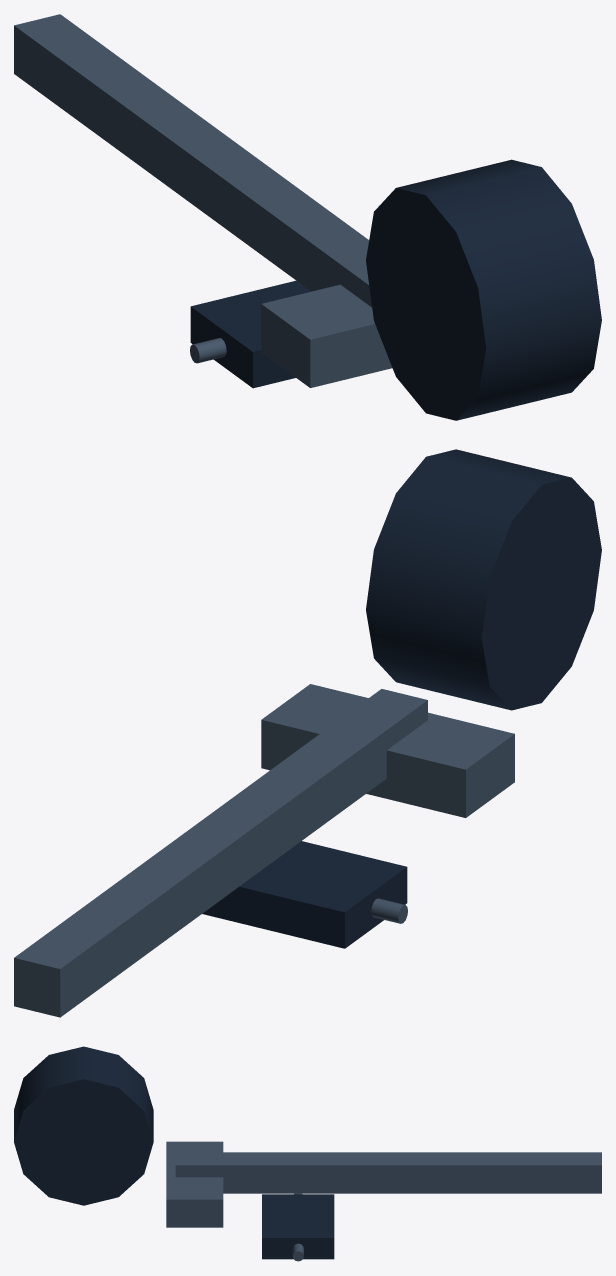
Rendered from rowerg.glb.
3 views of the same model, one above another, from view 1: azimuth 30°, elevation 25°; view 2: azimuth 150°, elevation 25°; view 3: azimuth 270°, elevation 25° (orthographic). The views are drawn at different scales.
Visible parts, largest first — view 1: fan, rail, feet, rowingSeat, grip; view 2: fan, rail, feet, rowingSeat; view 3: fan, rail, rowingSeat, feet.
Boxes of the visible parts, x1,y1,x2,y2 form: fan: (366, 159, 601, 420); rail: (14, 14, 371, 307); feet: (261, 284, 392, 387); rowingSeat: (190, 280, 310, 388); grip: (190, 338, 226, 363); fan: (366, 449, 601, 710); rail: (14, 689, 427, 1017); feet: (261, 684, 514, 817); rowingSeat: (202, 841, 407, 948); fan: (14, 1046, 153, 1205); rail: (175, 1152, 601, 1193); rowingSeat: (262, 1194, 334, 1259); feet: (166, 1141, 223, 1227).
Bounding box in the file's own units: 0.54 × 0.745 × 2.27.
